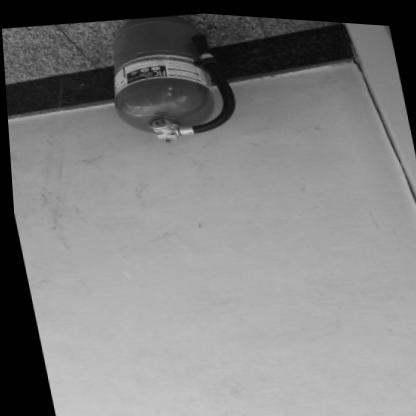FE: (93, 5, 238, 145)
